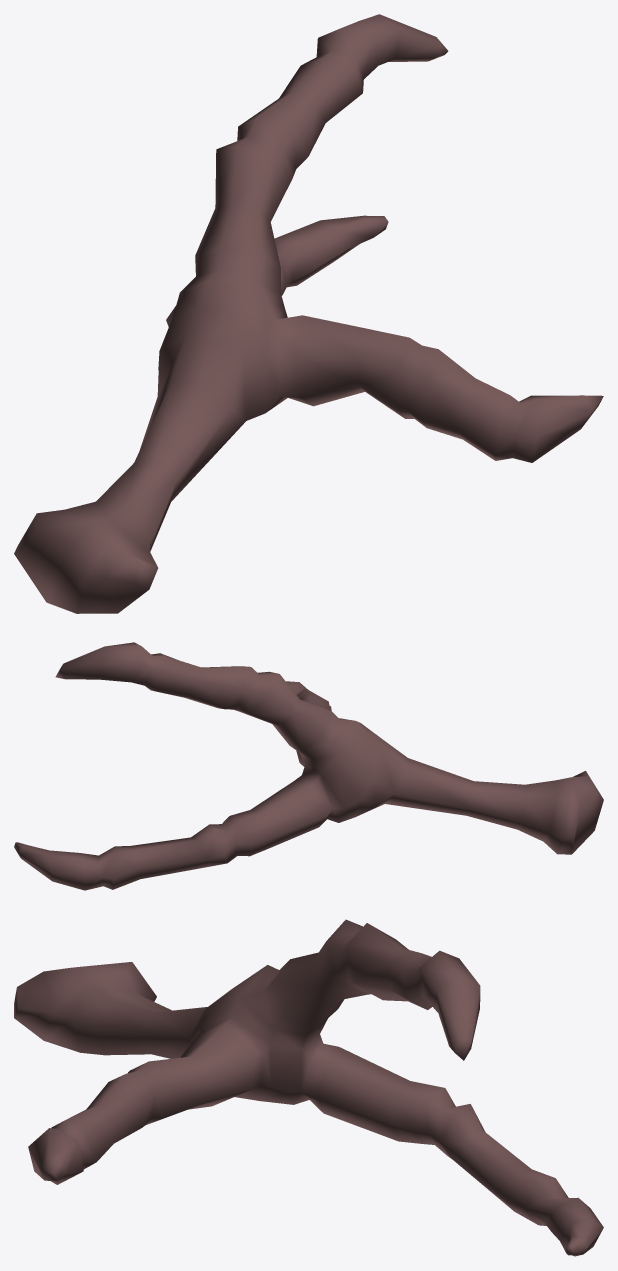
Rendered from SM_BirdSkeletonClaw.FBX.
3 renders of one model, top to bottom at view 1: azimuth 30°, elevation 25°; view 2: azimuth 150°, elevation 25°; view 3: azimuth 270°, elevation 25°, orthographic. The views are drawn at different scales.
Parts seen in each view (by area): view 1: SM_BirdSkeletonClaw; view 2: SM_BirdSkeletonClaw; view 3: SM_BirdSkeletonClaw.
Part boxes in pixels (<box>): SM_BirdSkeletonClaw: <box>14,14,603,613</box>; SM_BirdSkeletonClaw: <box>14,642,603,890</box>; SM_BirdSkeletonClaw: <box>14,919,603,1256</box>.
Bounding box in the file's own units: 55.61 × 28.74 × 51.79.
